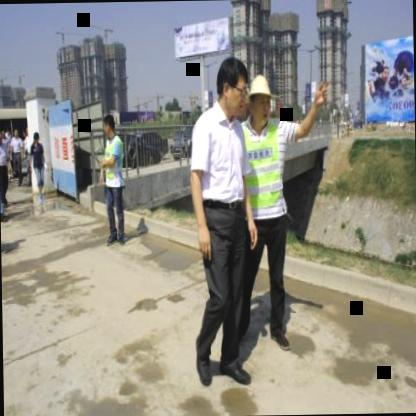head: (215, 51, 250, 119), (101, 108, 116, 140), (0, 128, 3, 147)
helmet: (245, 72, 273, 128)
